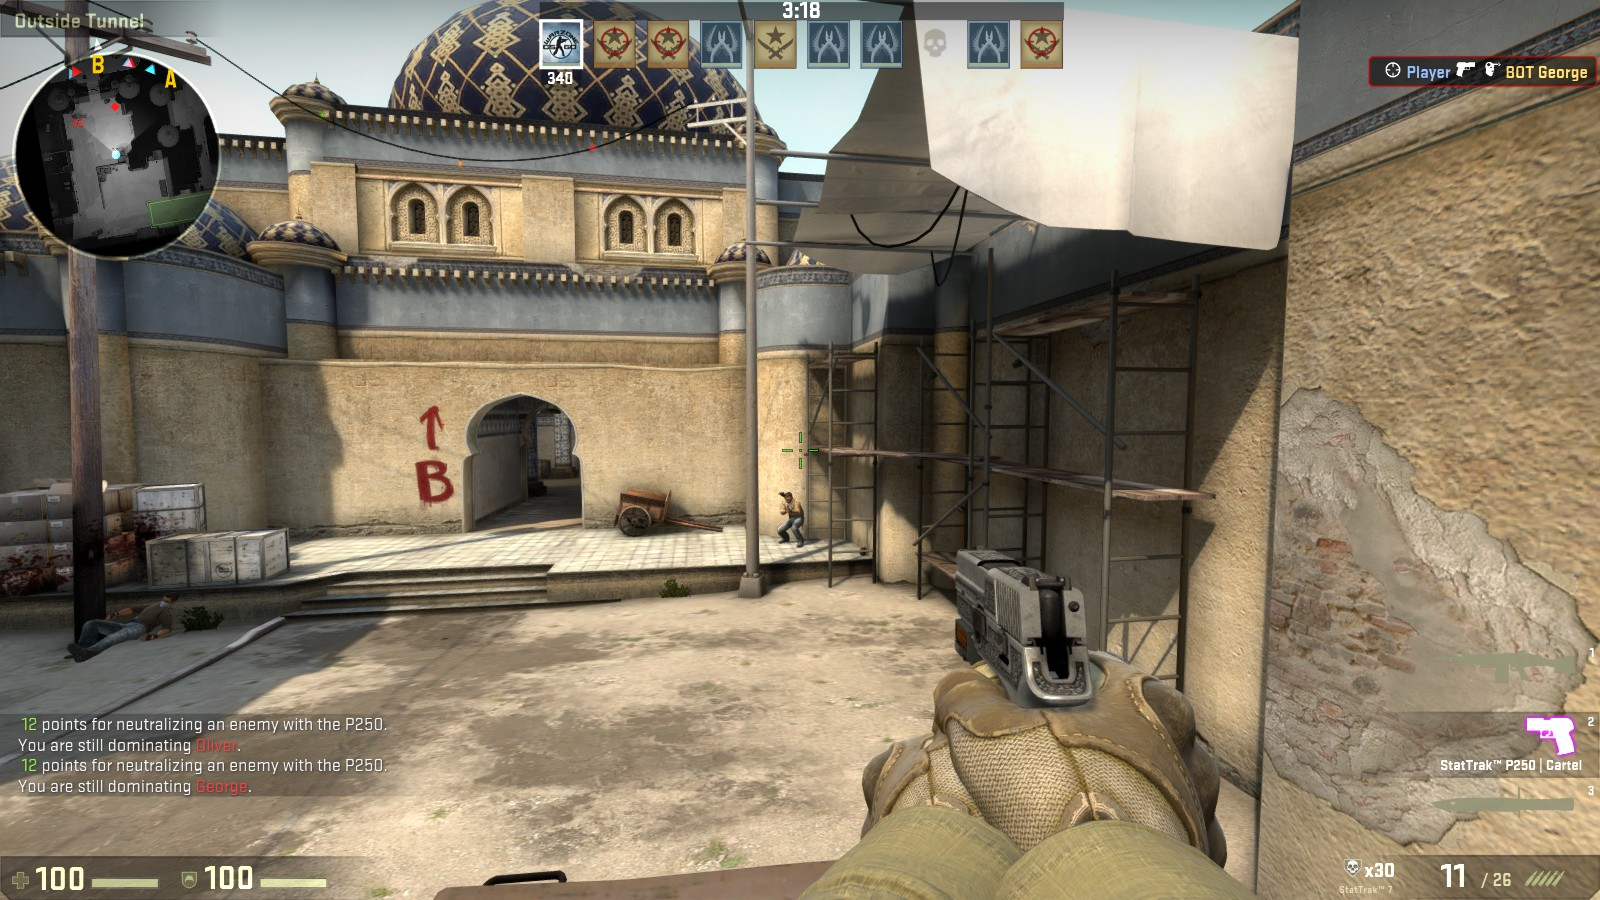t: (775, 490, 805, 548)
th: (784, 491, 795, 505)
